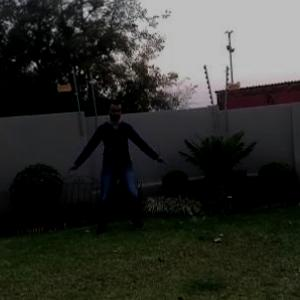land: (66, 104, 163, 232)
